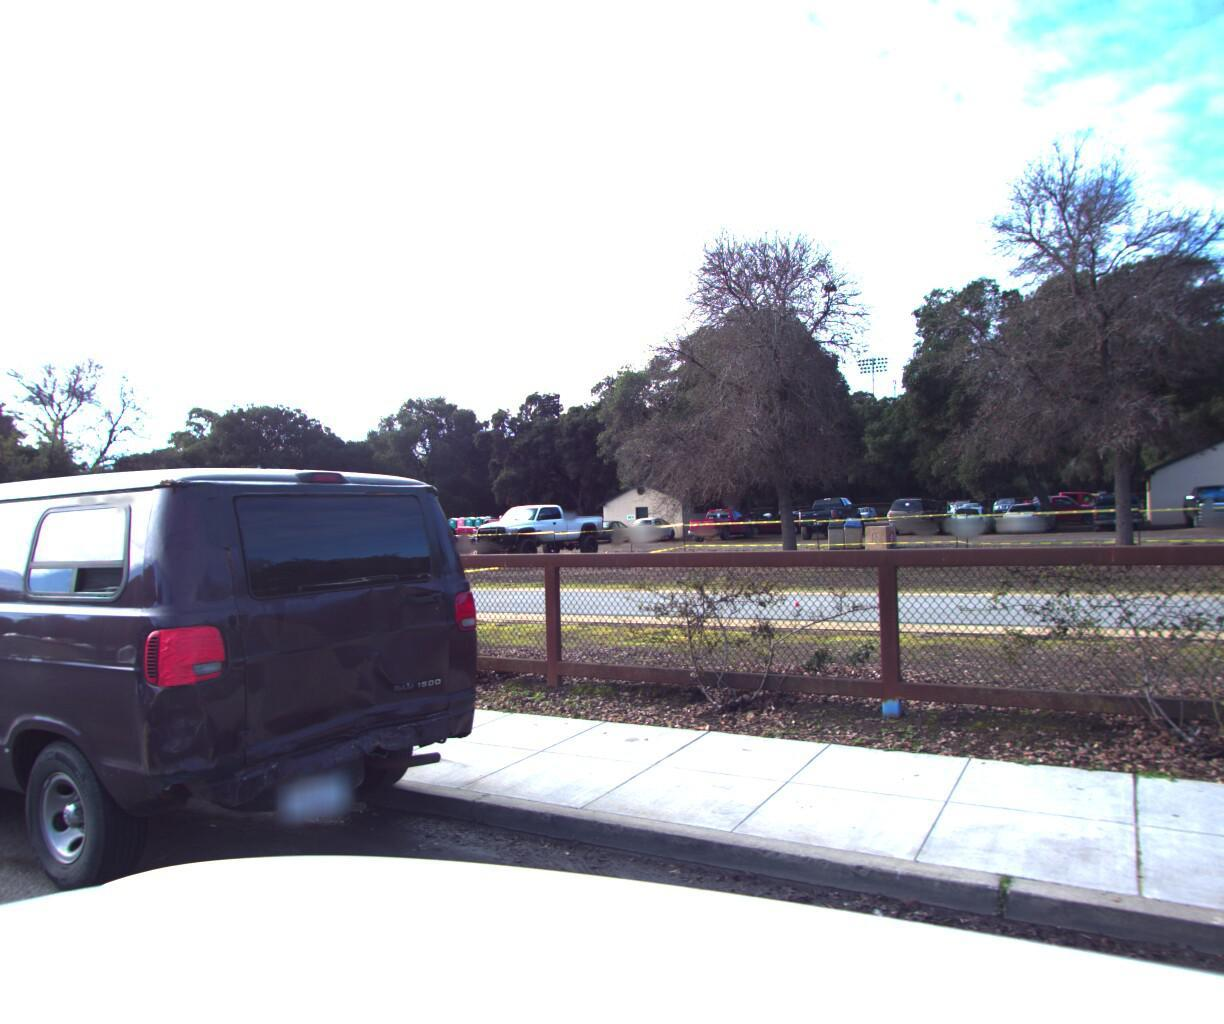car: (0, 421, 503, 989)
